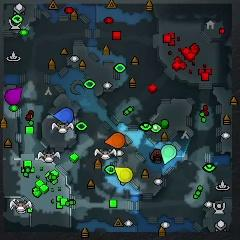p1: (54, 107, 73, 124)
p2: (162, 145, 176, 164)
p3: (5, 88, 22, 105)
p4: (114, 167, 132, 182)
p5: (106, 132, 125, 148)
